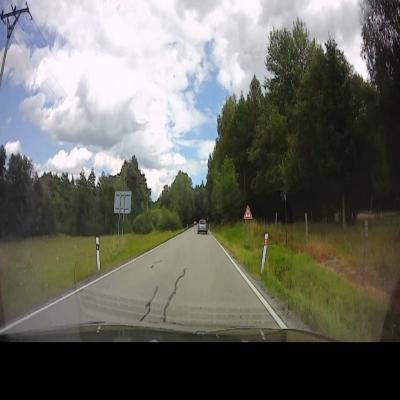clear-road: (97, 229, 262, 314)
